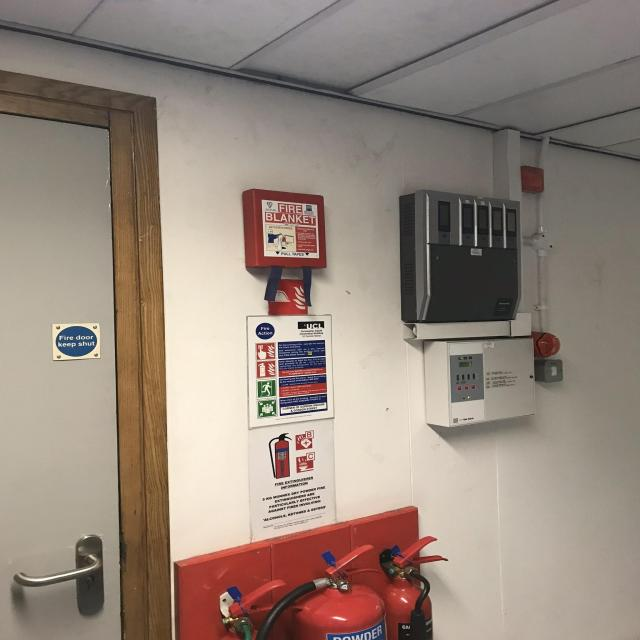fire_extinguisher: (251, 542, 396, 640), (378, 533, 452, 640), (208, 576, 312, 640)
